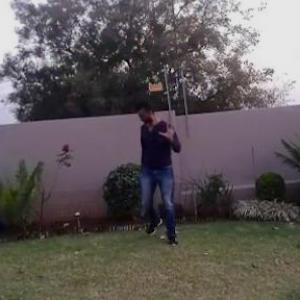follow_hand: (157, 114, 179, 142)
